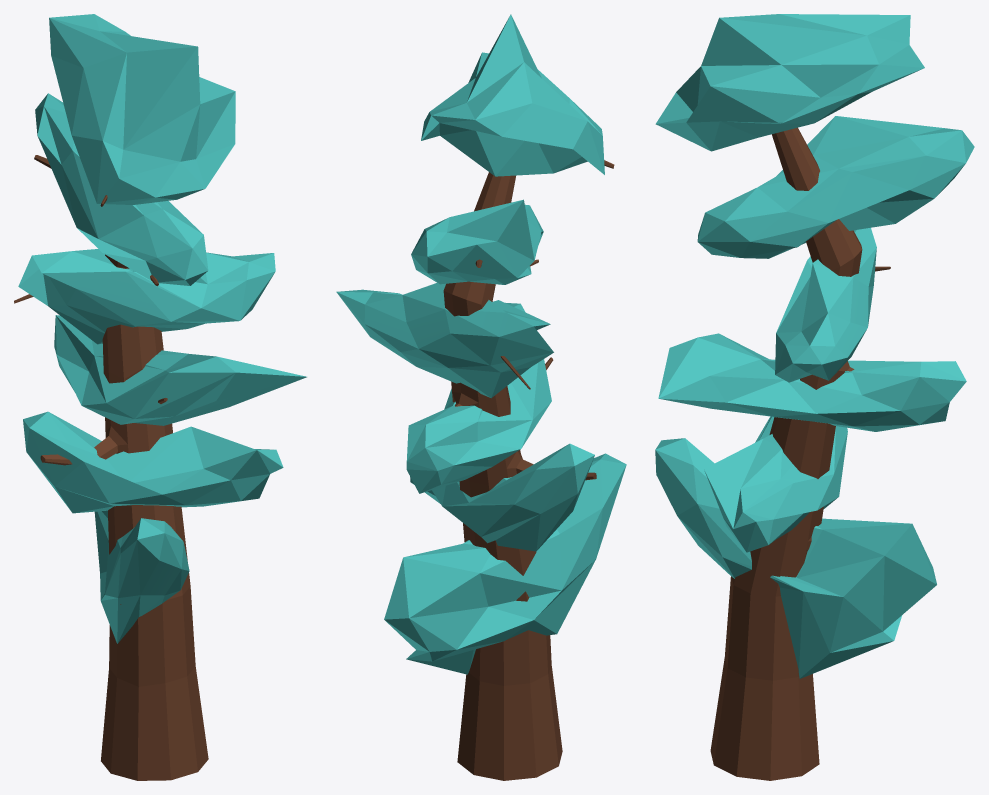
3 views of the same model, side by side, from view 1: azimuth 30°, elevation 25°; view 2: azimuth 150°, elevation 25°; view 3: azimuth 270°, elevation 25° (orthographic). The views are drawn at different scales.
Visible parts, largest first — view 1: t5; view 2: t5; view 3: t5.
Boxes of the visible parts, bbox=[...] form: t5: bbox=[14, 14, 306, 780]; t5: bbox=[336, 14, 626, 780]; t5: bbox=[655, 14, 974, 780].
Bounding box in the file's own units: 358 × 984 × 379.
